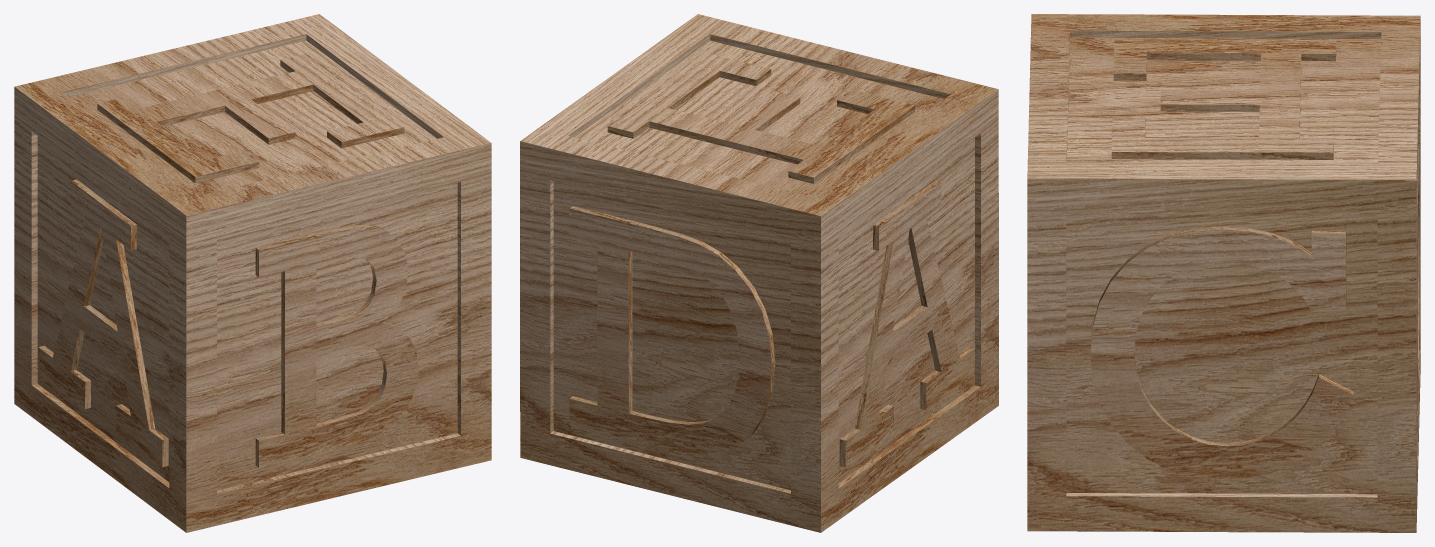
The model's file is alphabet-block.glb.
3 renders of one model, left to right at view 1: azimuth 30°, elevation 25°; view 2: azimuth 150°, elevation 25°; view 3: azimuth 270°, elevation 25°, orthographic. The views are drawn at different scales.
Visible parts, largest first — view 1: Material2; view 2: Material2; view 3: Material2.
Boxes of the visible parts, x1=… form: Material2: x1=14, y1=14, x2=491, y2=532; Material2: x1=520, y1=14, x2=998, y2=532; Material2: x1=1027, y1=14, x2=1420, y2=532.
Bounding box in the file's own units: 2.39 × 2.36 × 2.39.
Materials: 1 (1 with a texture image).
